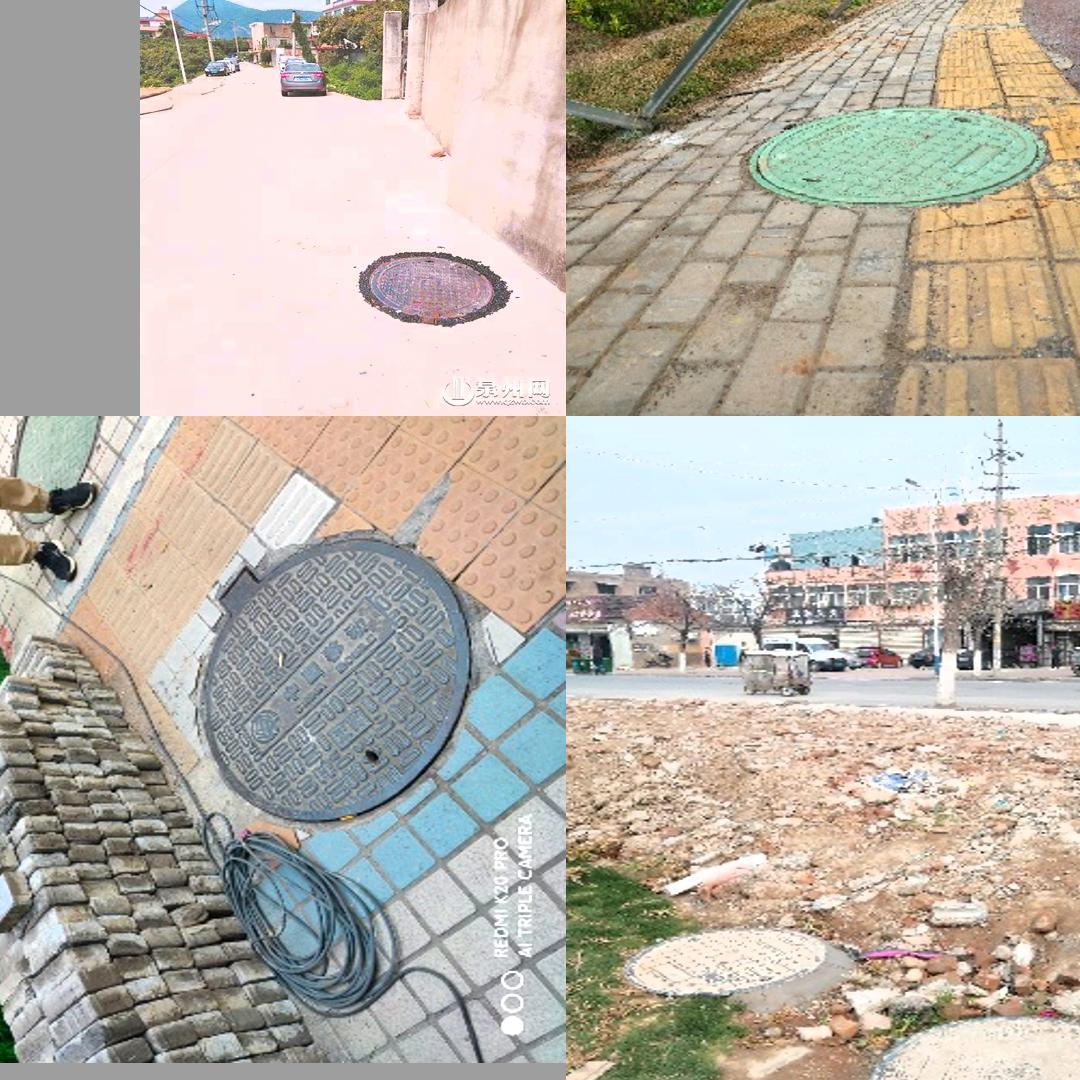good: (197, 534, 466, 826), (748, 107, 1045, 206), (336, 240, 531, 334), (624, 926, 827, 997), (866, 1015, 1080, 1080)
